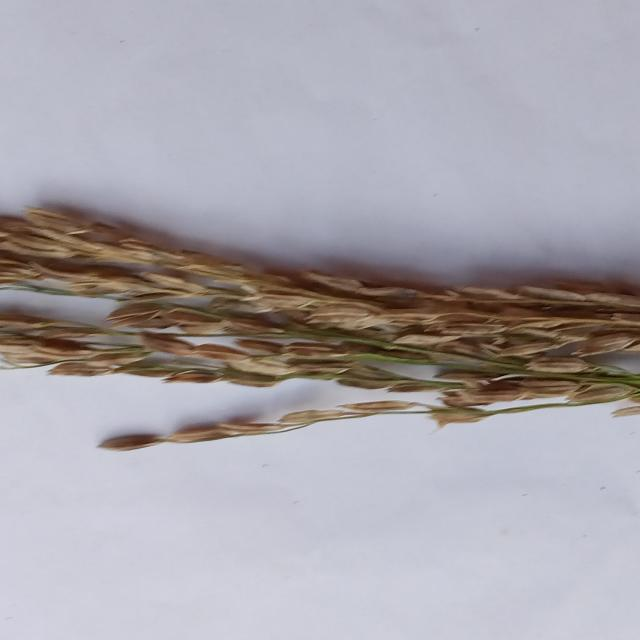Neck_Blast: (1, 203, 640, 357), (0, 302, 615, 392), (90, 392, 640, 446)
